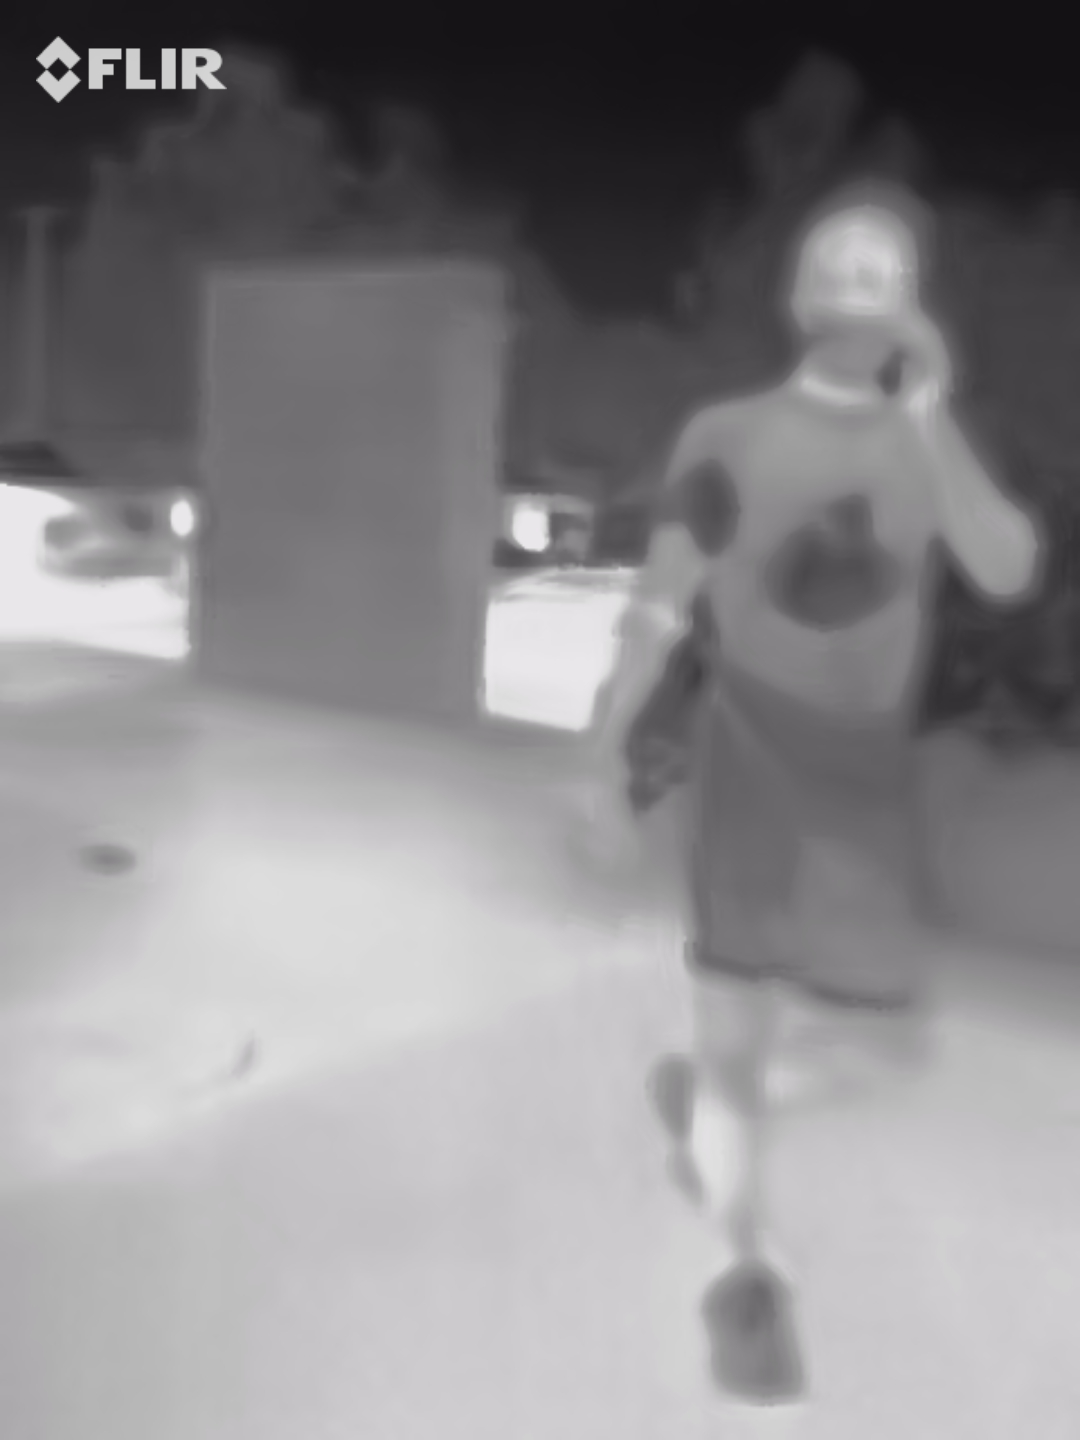head: (786, 198, 910, 383)
